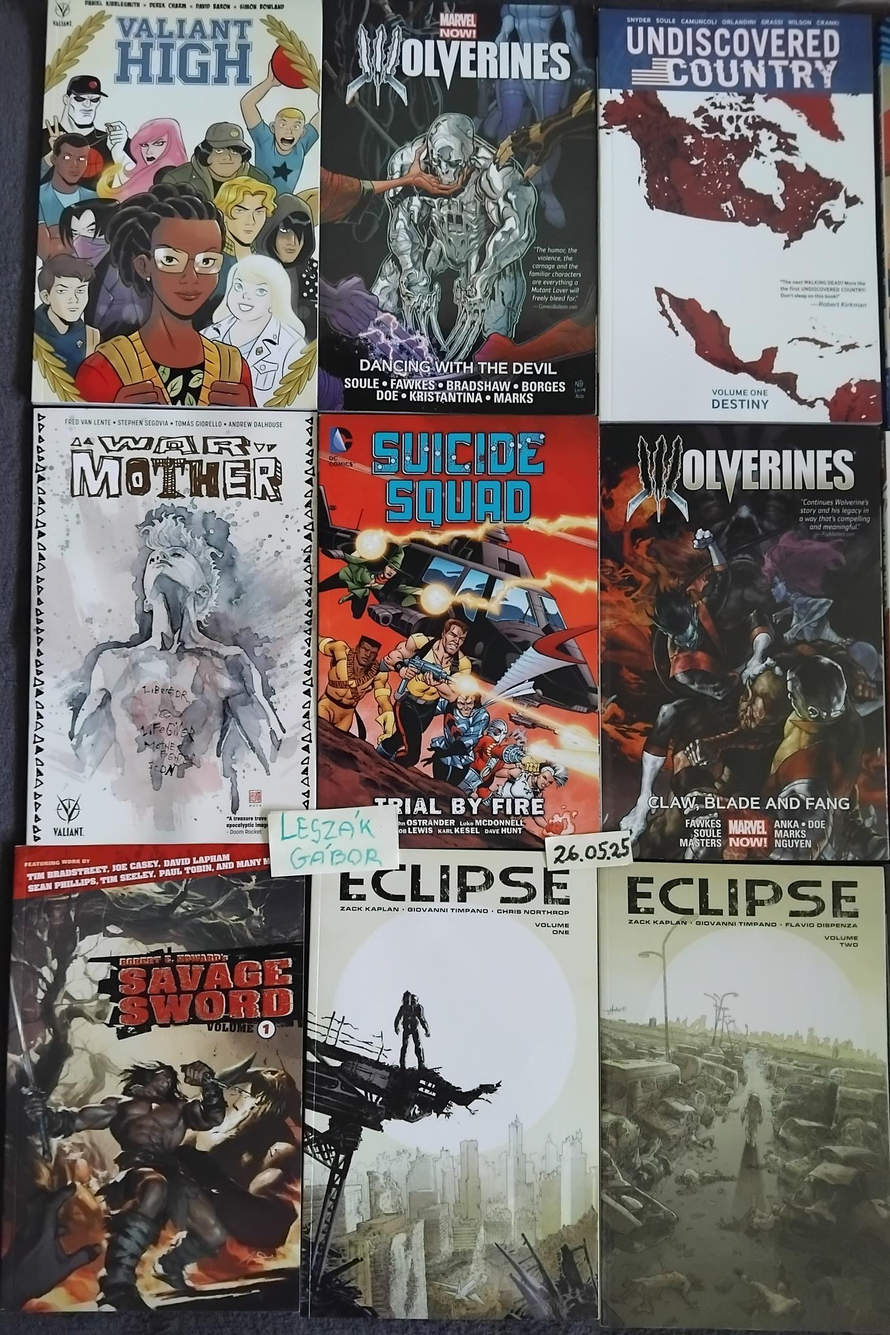comic: (0, 839, 312, 1320), (302, 850, 600, 1320), (599, 862, 890, 1333), (598, 420, 887, 863), (27, 408, 318, 847), (317, 414, 598, 849), (32, 0, 322, 411), (599, 9, 882, 424), (318, 0, 598, 414)
